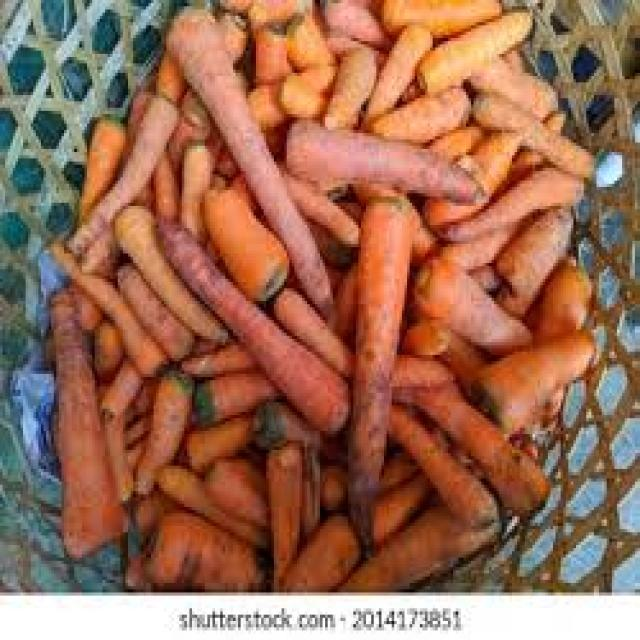Stale_Carrot: (168, 11, 328, 312), (159, 225, 350, 431), (288, 121, 478, 200)
